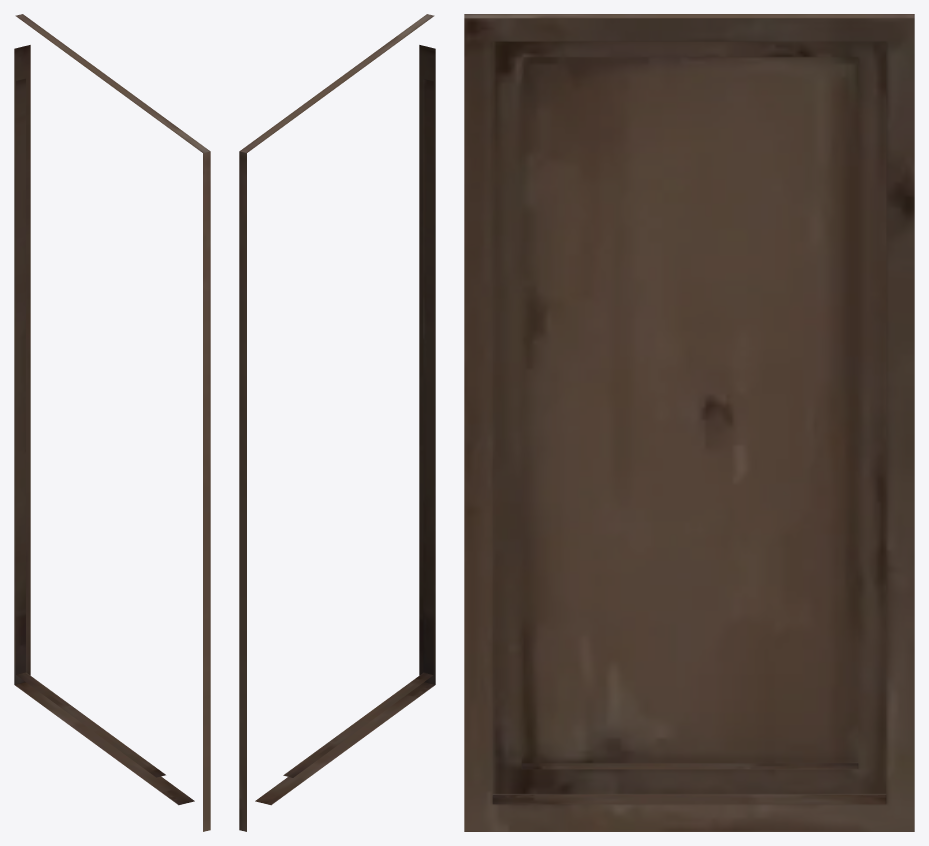
The picture shows the model from 3 angles, left to right: view 1: azimuth 30°, elevation 25°; view 2: azimuth 150°, elevation 25°; view 3: azimuth 270°, elevation 25°; orthographic projection. The views are drawn at different scales.
Visible parts, largest first — view 1: body0_model0_lod0_mesh0; view 2: body0_model0_lod0_mesh0; view 3: body0_model0_lod0_mesh0.
Boxes of the visible parts, x1=… form: body0_model0_lod0_mesh0: x1=14, y1=14, x2=210, y2=831; body0_model0_lod0_mesh0: x1=239, y1=14, x2=435, y2=831; body0_model0_lod0_mesh0: x1=464, y1=14, x2=914, y2=831.
Bounding box in the file's own units: 6 × 128 × 64.18.
1 material, 1 textured.
